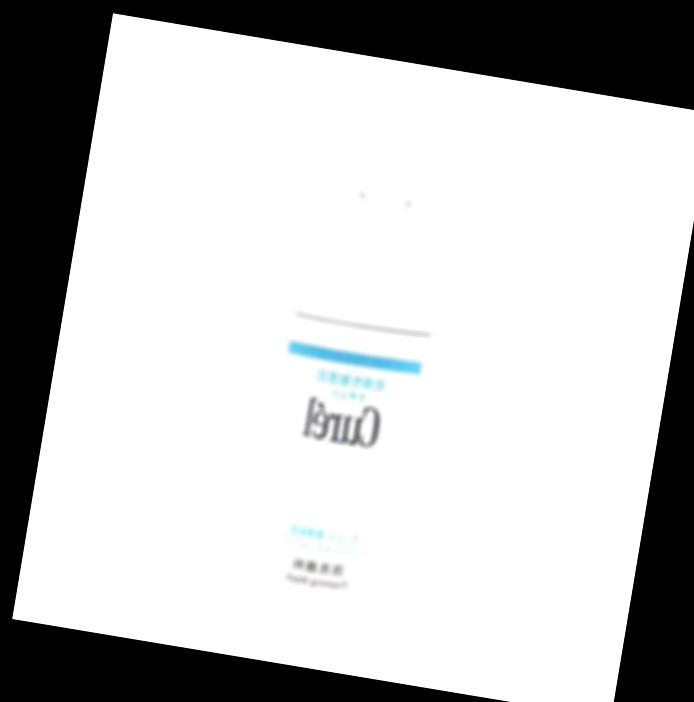cosmetic: (208, 87, 507, 658)
